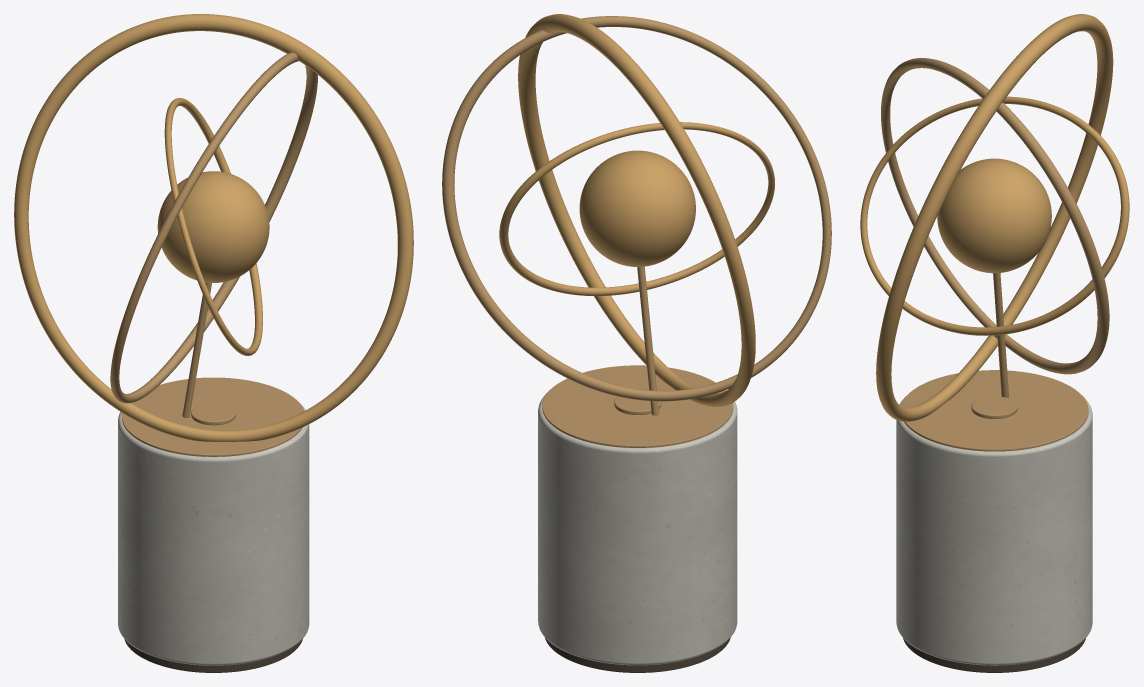
The model's file is sculpture.glb.
The picture shows the model from 3 angles, left to right: view 1: azimuth 30°, elevation 25°; view 2: azimuth 150°, elevation 25°; view 3: azimuth 270°, elevation 25°; orthographic projection. The views are drawn at different scales.
Parts seen in each view (by area): view 1: Limestone monolithic cylindrical plinth, Primary ascending bronze orbit, Suspended burnished bronze nucleus, Fine bronze top reveal, Crossing elliptical bronze orbit, Inner oblique orbital arc, Inset bronze plinth foot, Fine sloping nucleus support, Sculpture mounting medallion; view 2: Limestone monolithic cylindrical plinth, Primary ascending bronze orbit, Crossing elliptical bronze orbit, Suspended burnished bronze nucleus, Fine bronze top reveal, Inner oblique orbital arc, Inset bronze plinth foot, Fine sloping nucleus support, Sculpture mounting medallion; view 3: Limestone monolithic cylindrical plinth, Primary ascending bronze orbit, Suspended burnished bronze nucleus, Fine bronze top reveal, Crossing elliptical bronze orbit, Inner oblique orbital arc, Inset bronze plinth foot, Fine sloping nucleus support, Sculpture mounting medallion.
Part boxes in pixels (x1,y1,x2,y2): Limestone monolithic cylindrical plinth: (118,403,309,665); Primary ascending bronze orbit: (14,14,413,441); Suspended burnished bronze nucleus: (157,171,269,282); Fine bronze top reveal: (122,377,304,456); Crossing elliptical bronze orbit: (110,52,317,403); Inner oblique orbital arc: (164,98,262,355); Inset bronze plinth foot: (124,639,302,672); Fine sloping nucleus support: (182,282,211,417); Sculpture mounting medallion: (191,403,235,425); Limestone monolithic cylindrical plinth: (538,391,737,665); Primary ascending bronze orbit: (518,14,755,406); Crossing elliptical bronze orbit: (442,16,831,401); Suspended burnished bronze nucleus: (579,150,695,266); Fine bronze top reveal: (542,365,733,447); Inner oblique orbital arc: (499,122,774,295); Inset bronze plinth foot: (545,638,730,672); Fine sloping nucleus support: (637,266,659,415); Sculpture mounting medallion: (614,396,661,414); Limestone monolithic cylindrical plinth: (896,395,1092,665); Primary ascending bronze orbit: (876,14,1113,421); Suspended burnished bronze nucleus: (937,158,1051,273); Fine bronze top reveal: (901,370,1088,451); Crossing elliptical bronze orbit: (881,58,1109,374); Inner oblique orbital arc: (860,96,1129,335); Inset bronze plinth foot: (903,638,1085,672); Fine sloping nucleus support: (993,273,1008,398); Sculpture mounting medallion: (971,396,1017,418).
Size of the model in its own units: 1.16 by 2.17 by 0.8641.
4 materials, 1 textured.
